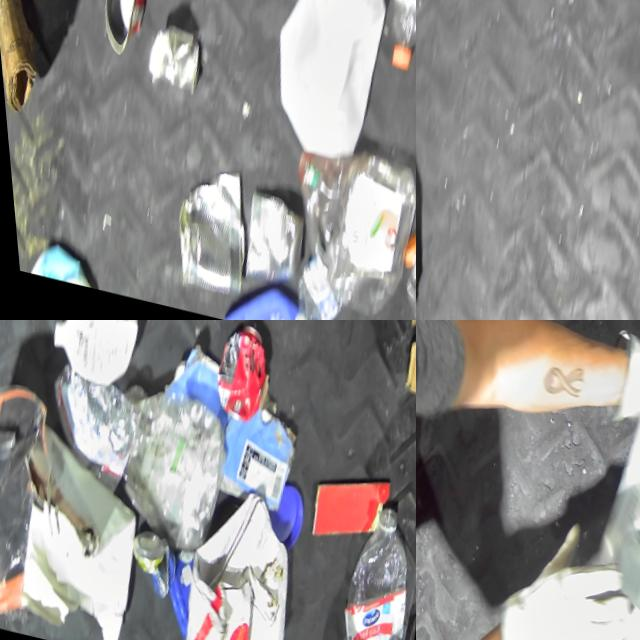can: (147, 159, 257, 301), (222, 184, 308, 296), (197, 320, 271, 420), (130, 17, 205, 102), (108, 524, 169, 603), (79, 0, 156, 62)
milk_jug: (239, 0, 408, 166), (33, 320, 142, 388)
non_white_jug: (258, 131, 416, 320), (137, 338, 308, 504), (201, 273, 314, 320)
plastic_bottle: (309, 500, 416, 640), (270, 251, 343, 320), (367, 222, 416, 320), (361, 0, 416, 77)
